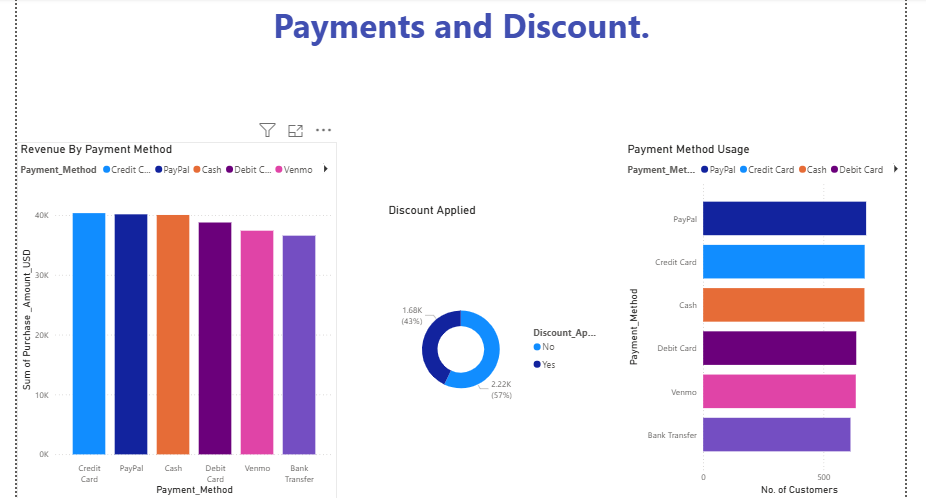

The page's visual inventory and layout, read from the dashboard file:
{"tool":"powerbi","page":{"name":"Page 5","canvas":[1280,720],"ordinal":4},"visuals":[{"type":"donutChart","title":"Discount Applied","fields":{"Category":["shopping_behavior_updated (1)(working sheet).Discount_Applied"],"Y":["CountNonNull(shopping_behavior_updated (1)(working sheet).Customer_ID)"]},"box":[530.3,294.8,316.4,402.7],"z":0},{"type":"barChart","title":"Payment Method Usage","fields":{"Category":["shopping_behavior_updated (1)(working sheet).Payment_Method"],"Y":["CountNonNull(shopping_behavior_updated (1)(working sheet).Customer_ID)"],"Series":["shopping_behavior_updated (1)(working sheet).Payment_Method"]},"box":[873.7,206.7,406.3,514.2],"z":1000},{"type":"columnChart","title":"Revenue By Payment Method","fields":{"Category":["shopping_behavior_updated (1)(working sheet).Payment_Method"],"Y":["Sum(shopping_behavior_updated (1)(working sheet).Purchase _Amount_USD)"],"Series":["shopping_behavior_updated (1)(working sheet).Payment_Method"]},"box":[0,206.7,460.2,514.2],"z":2000},{"type":"textbox","box":[0,0,1280,95.3],"z":3000}]}

Visuals, with their boxes on the page's 1280x720 design canvas (x1, y1, x2, y2). These are canvas units, not pixel positions in the 926x498 screenshot, which may show the page scaled, cropped or inside an application window:
"Discount Applied" donutChart: detection(530, 295, 847, 698)
"Payment Method Usage" barChart: detection(874, 207, 1280, 721)
"Revenue By Payment Method" columnChart: detection(0, 207, 460, 721)
textbox: detection(0, 0, 1280, 95)
